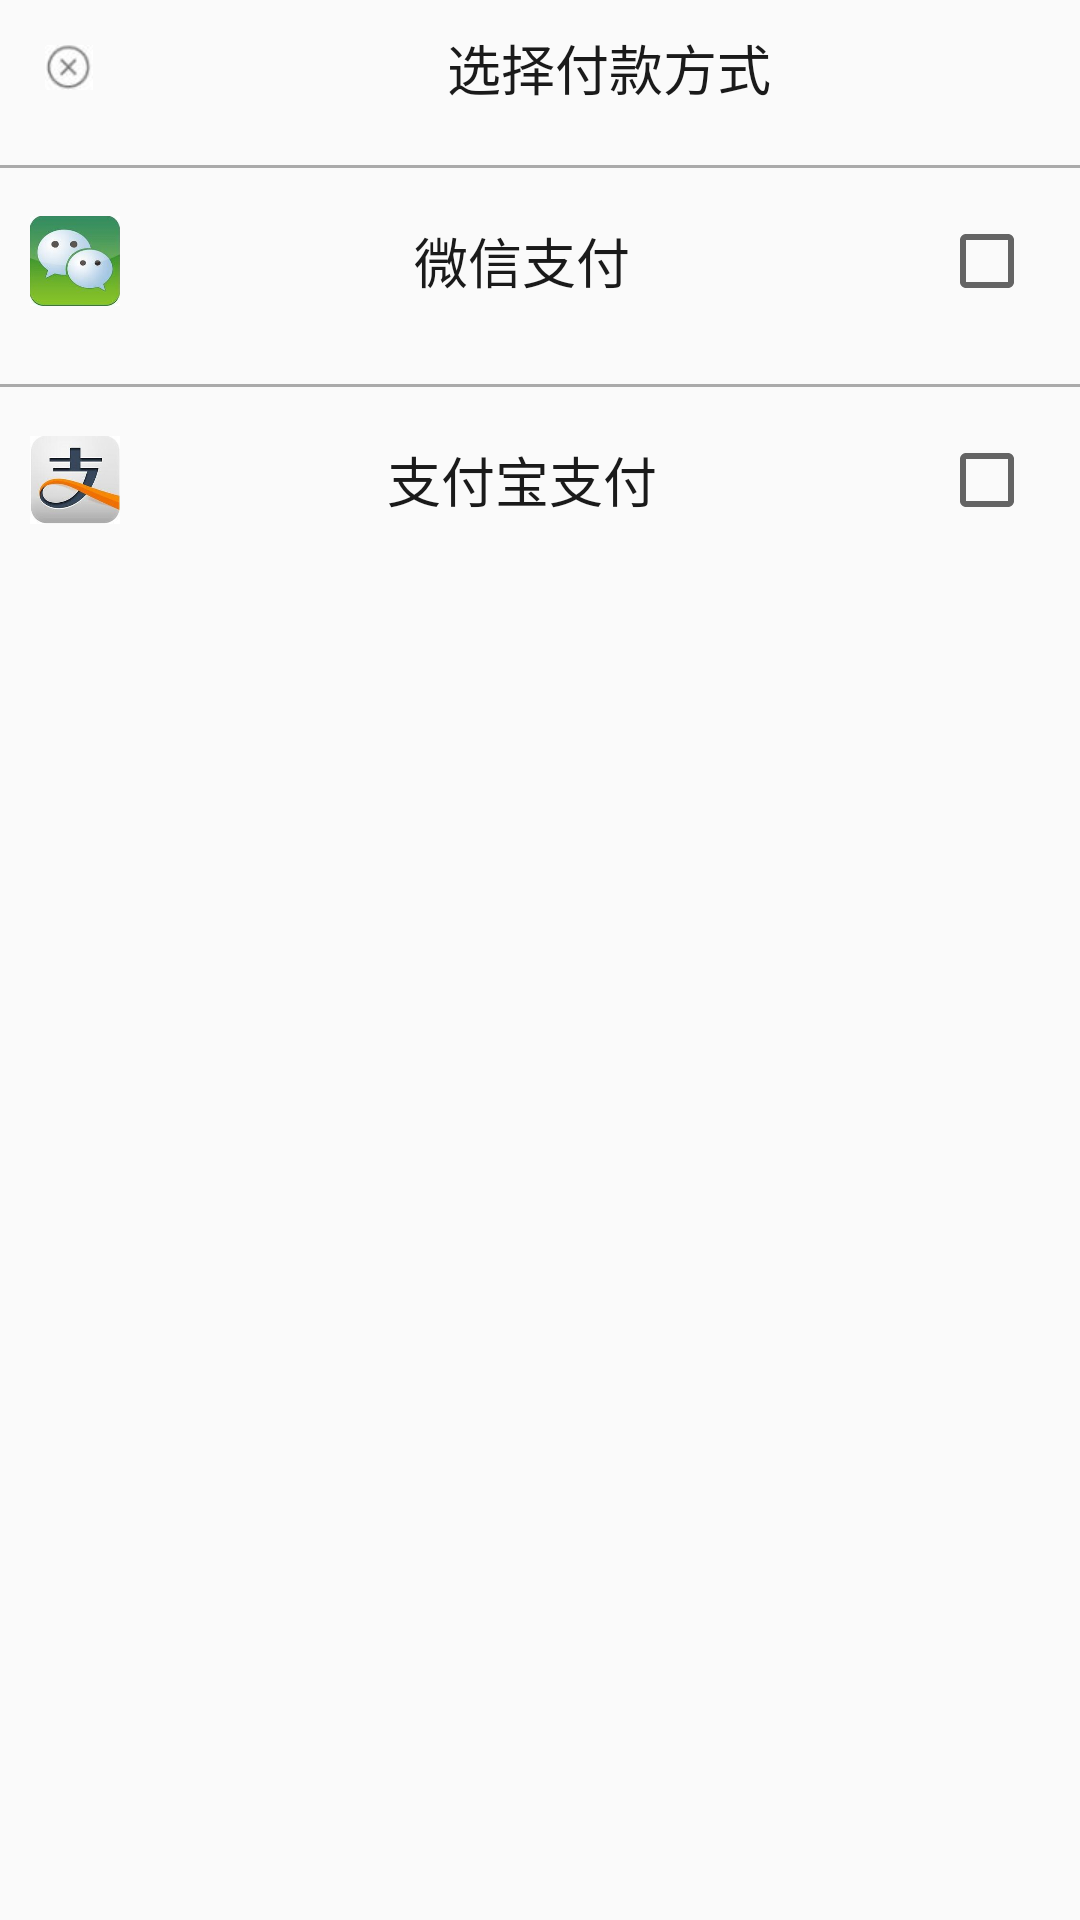

Icon click points for this 1080 x 1920 phone screenshot, format (x,y):
cancel: (68,67)
